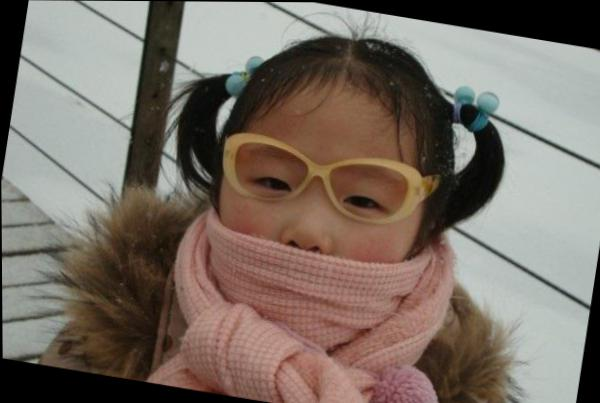WRONG: (190, 131, 410, 351)
